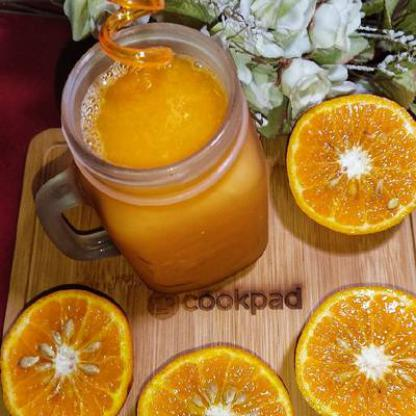orange juice: (79, 51, 270, 296)
